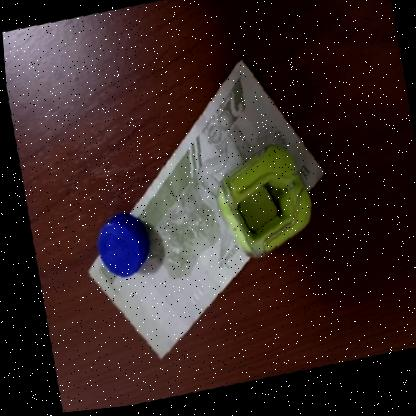vef_back: (44, 46, 354, 378)
